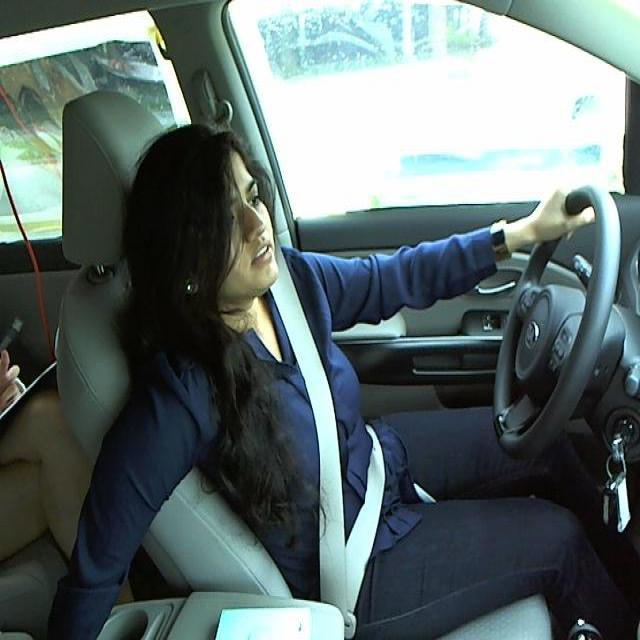seatbelt: (279, 308, 394, 597)
